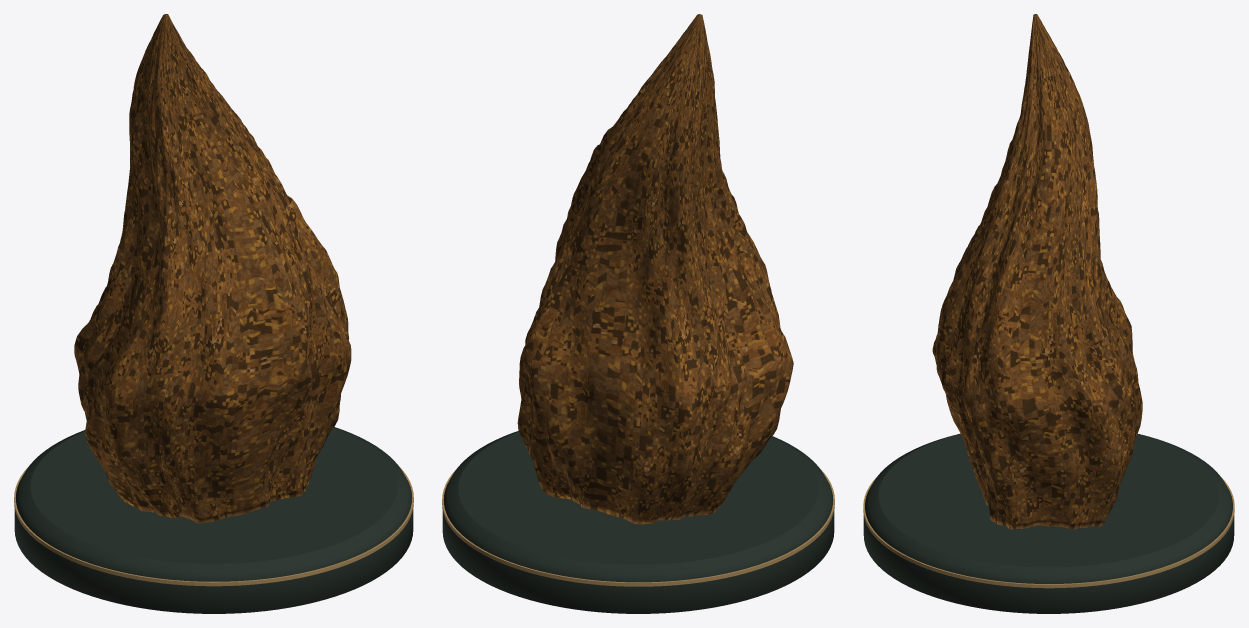
The model's file is lingstone-concept-05-v191-494d73fbadbc.glb.
3 views of the same model, side by side, from view 1: azimuth 30°, elevation 25°; view 2: azimuth 150°, elevation 25°; view 3: azimuth 270°, elevation 25° (orthographic). The views are drawn at different scales.
Visible parts, largest first — view 1: XY-CONCEPT-005 concept stone, Centered beveled display plinth, Champagne gold edge; view 2: XY-CONCEPT-005 concept stone, Centered beveled display plinth, Champagne gold edge; view 3: XY-CONCEPT-005 concept stone, Centered beveled display plinth, Champagne gold edge.
Boxes of the visible parts, box(x1,y1,x2,y2) form: XY-CONCEPT-005 concept stone: box(74, 14, 351, 523); Centered beveled display plinth: box(14, 427, 413, 613); Champagne gold edge: box(14, 466, 413, 586); XY-CONCEPT-005 concept stone: box(517, 14, 793, 524); Centered beveled display plinth: box(442, 430, 834, 613); Champagne gold edge: box(442, 469, 834, 586); XY-CONCEPT-005 concept stone: box(932, 14, 1142, 529); Centered beveled display plinth: box(863, 433, 1234, 613); Champagne gold edge: box(863, 477, 1234, 588).
Size of the model in its own units: 1.46 by 2.18 by 1.46.
3 materials, 1 textured.
